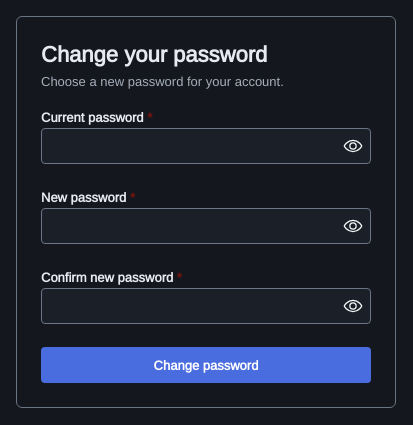
it: ChangePasswordView › says the current password is wrong on a 401
Type "current-password" into the password field labelled "Current password *" at (206, 146), box [42,129,370,163]
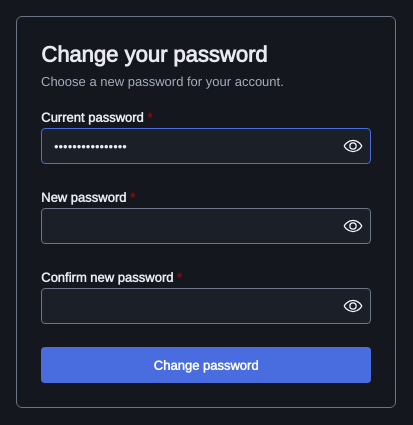
Type "short" into the password field labelled "New password *" at (206, 226), box [42,209,370,243]
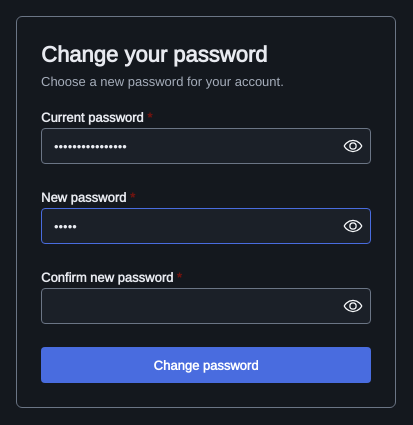
Type "short" into the password field labelled "Confirm new password *" at (206, 306), box [42,289,370,323]
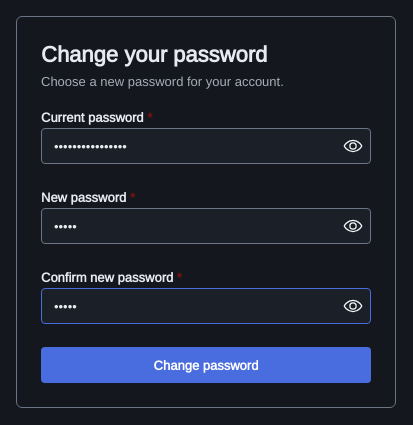
Click the button "Change password" at (206, 365), box [41,347,371,383]
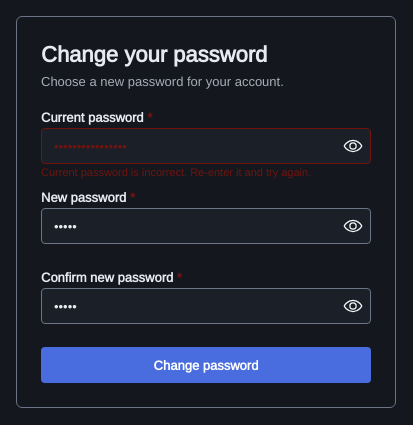
Expected: the text "Current password is incorrect. Re-enter it and try again." is shown, [41,165,311,179]
